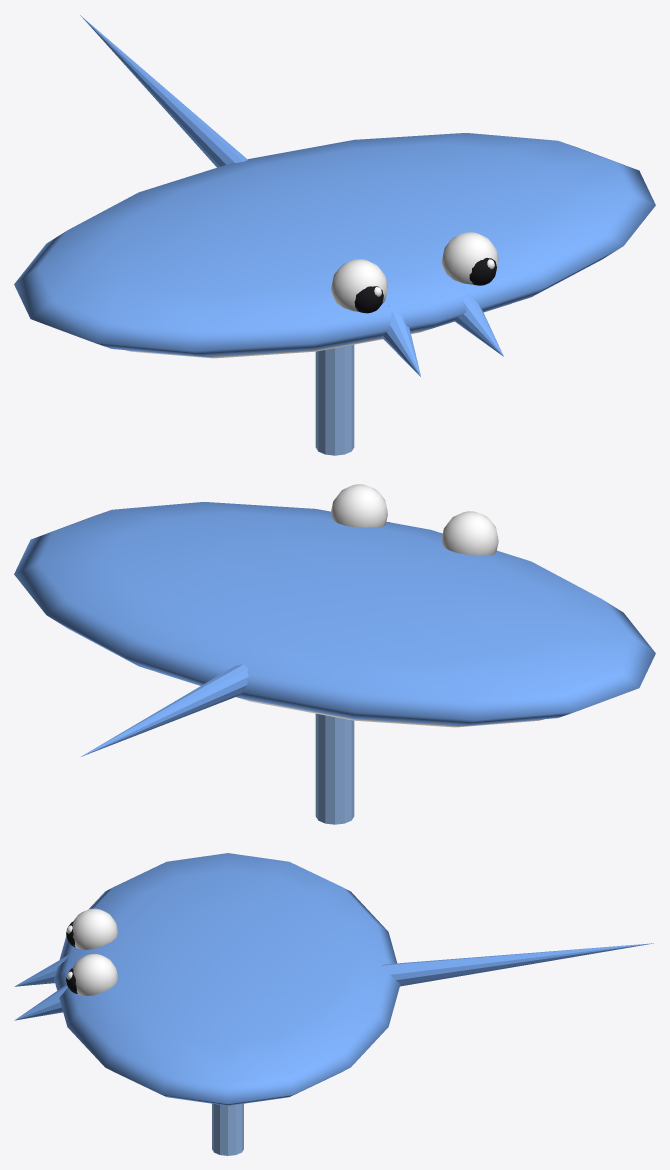
3 renders of one model, top to bottom at view 1: azimuth 30°, elevation 25°; view 2: azimuth 150°, elevation 25°; view 3: azimuth 270°, elevation 25°, orthographic. The views are drawn at different scales.
Visible parts, largest first — view 1: Sky Ray; view 2: Sky Ray; view 3: Sky Ray.
Part boxes in pixels (x1,y1,x2,y2): Sky Ray: [14, 15, 655, 455]; Sky Ray: [14, 484, 655, 824]; Sky Ray: [14, 853, 653, 1155].
Size of the model in its own units: 4.4 by 1.78 by 4.8.
1 material, 1 textured.
